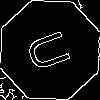U: (25, 25, 81, 74)
